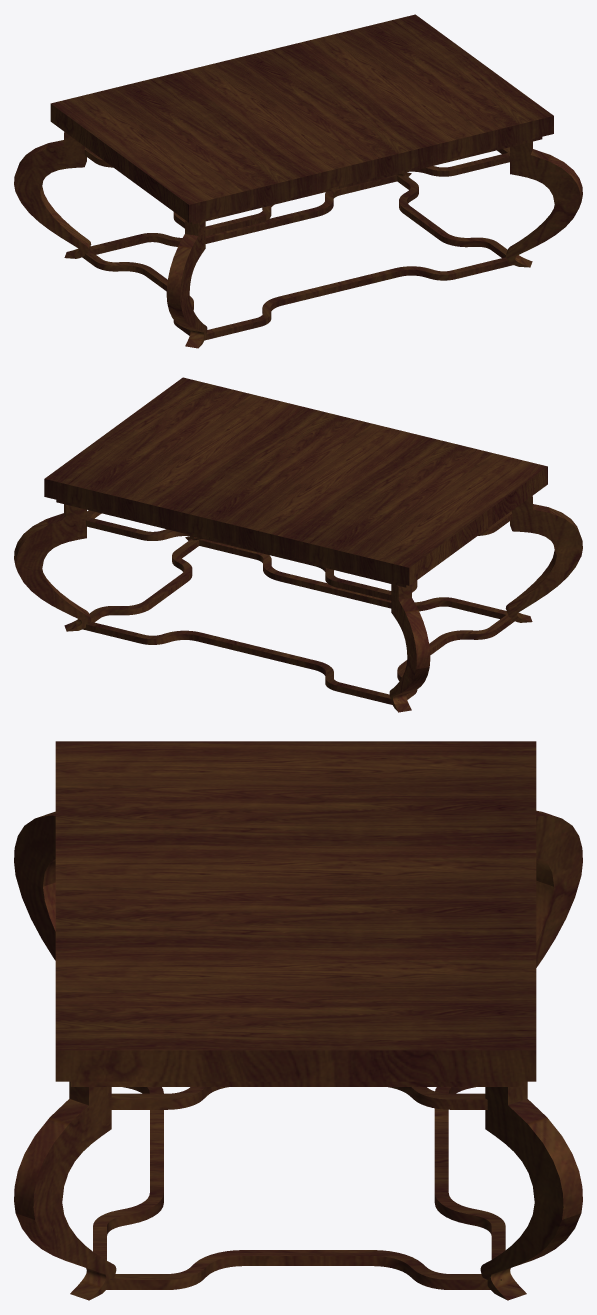
Rendered from raw_model.obj.
3 renders of one model, top to bottom at view 1: azimuth 30°, elevation 25°; view 2: azimuth 150°, elevation 25°; view 3: azimuth 270°, elevation 25°, orthographic. The views are drawn at different scales.
Parts seen in each view (by area): view 1: solid_001; view 2: solid_001; view 3: solid_001.
Boxes of the visible parts, x1,y1,x2,y2 form: solid_001: (14,14,582,348); solid_001: (14,377,582,712); solid_001: (14,741,582,1300).
Size of the model in its own units: 1.24 by 0.428 by 0.8482.
Materials: 1 (1 with a texture image).
